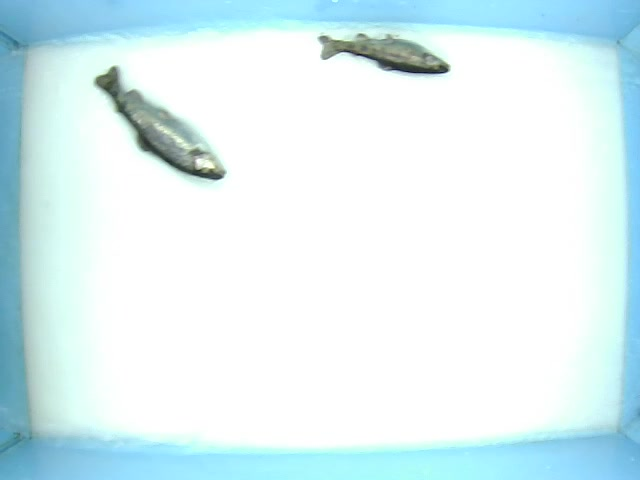fish: (90, 63, 230, 183), (315, 33, 454, 76)
